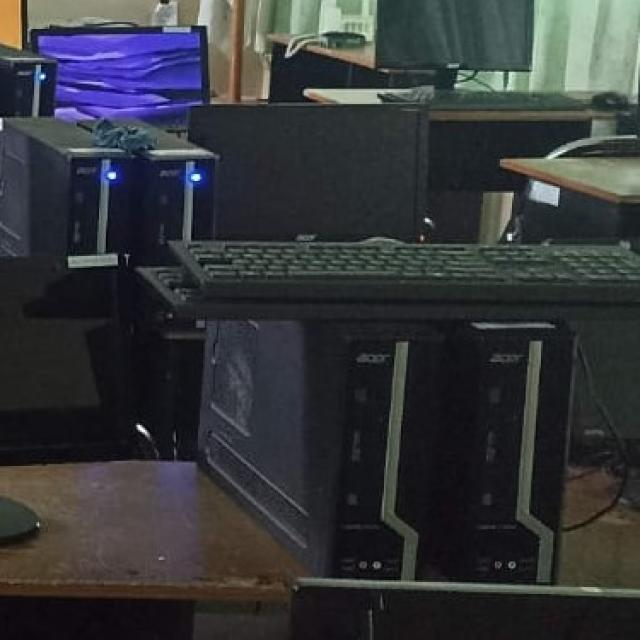offscreen: (188, 101, 428, 236), (381, 0, 530, 63)
onscreen: (35, 29, 210, 119)
